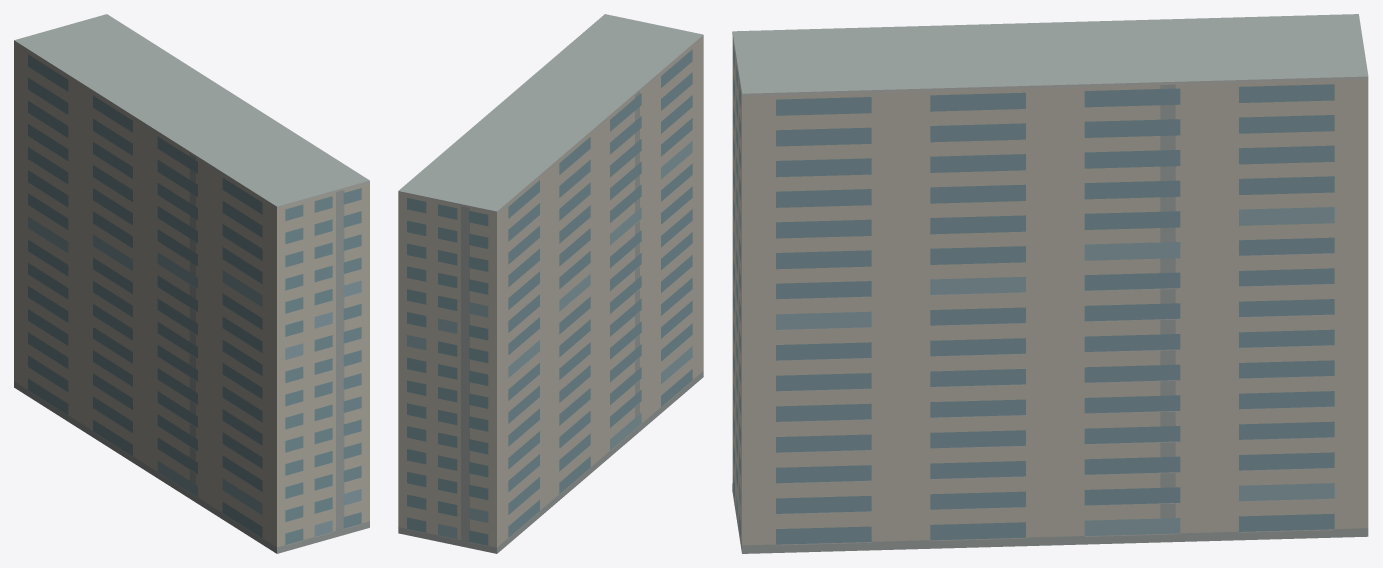
File: residential-51b0b2a1-dcb8-480f-a307-377454ae92e2.glb
The picture shows the model from 3 angles, left to right: view 1: azimuth 30°, elevation 25°; view 2: azimuth 150°, elevation 25°; view 3: azimuth 270°, elevation 25°; orthographic projection. The views are drawn at different scales.
Parts seen in each view (by area): view 1: residential-51b0b2a1-dcb8-480f-a307-377454ae92e2.tmp; view 2: residential-51b0b2a1-dcb8-480f-a307-377454ae92e2.tmp; view 3: residential-51b0b2a1-dcb8-480f-a307-377454ae92e2.tmp.
Boxes of the visible parts, x1,y1,x2,y2 form: residential-51b0b2a1-dcb8-480f-a307-377454ae92e2.tmp: (14, 14, 369, 553); residential-51b0b2a1-dcb8-480f-a307-377454ae92e2.tmp: (398, 14, 703, 553); residential-51b0b2a1-dcb8-480f-a307-377454ae92e2.tmp: (732, 14, 1368, 553).
Bounding box in the file's own units: 14.87 × 40 × 50.11.
